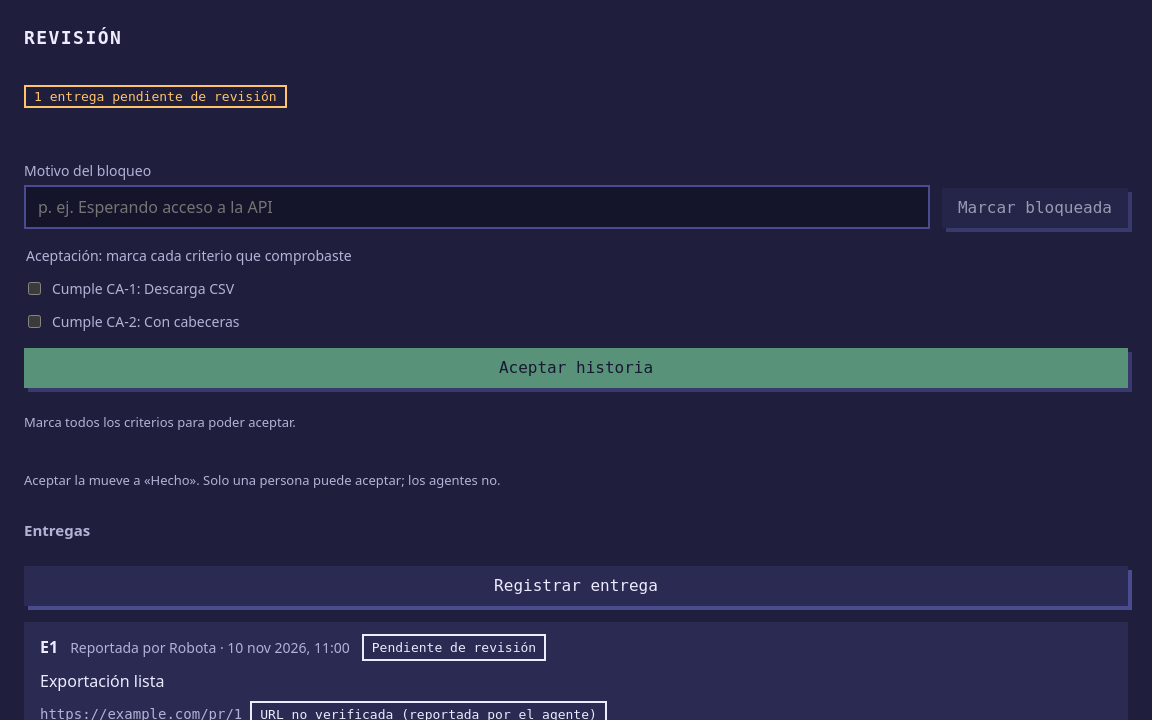
Test: ReviewPanel › registra una entrega con referencias y la envía a revisión
Click the button "Registrar entrega".
click(576, 586)  # box [24,566,1128,606]
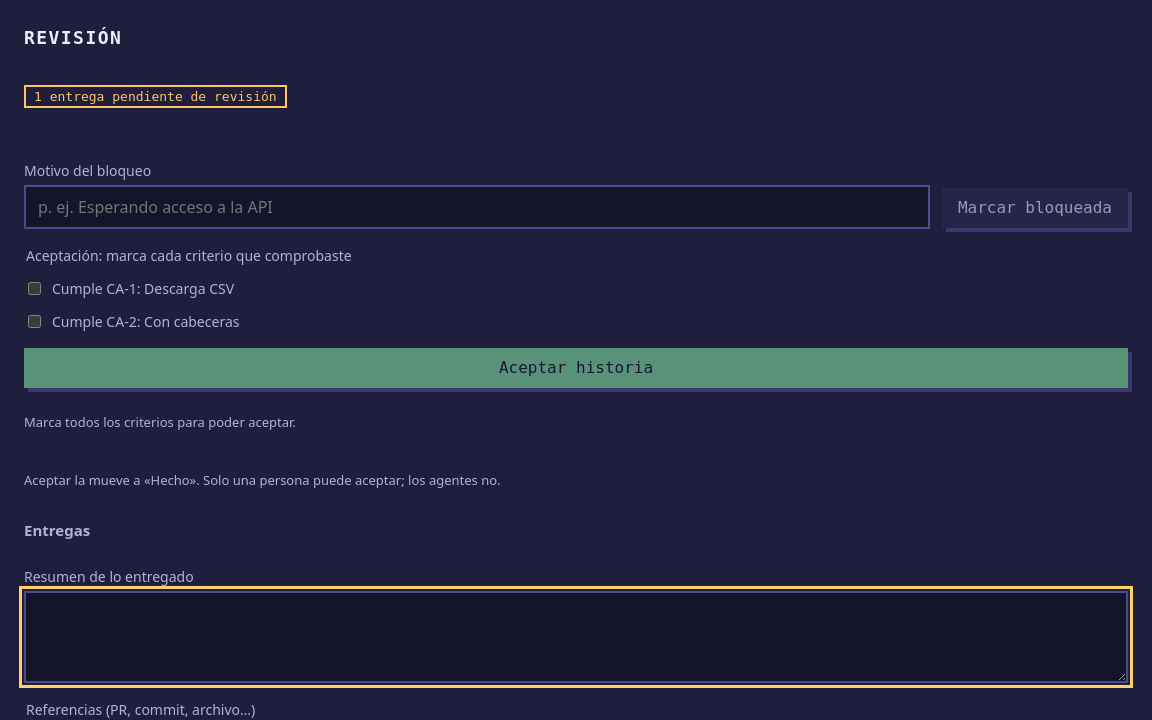
Type "Segunda versión" into the text box labelled "Resumen de lo entregado".
click(576, 636); type("Segunda versión")  # box [24,590,1128,682]
(page scrolled)
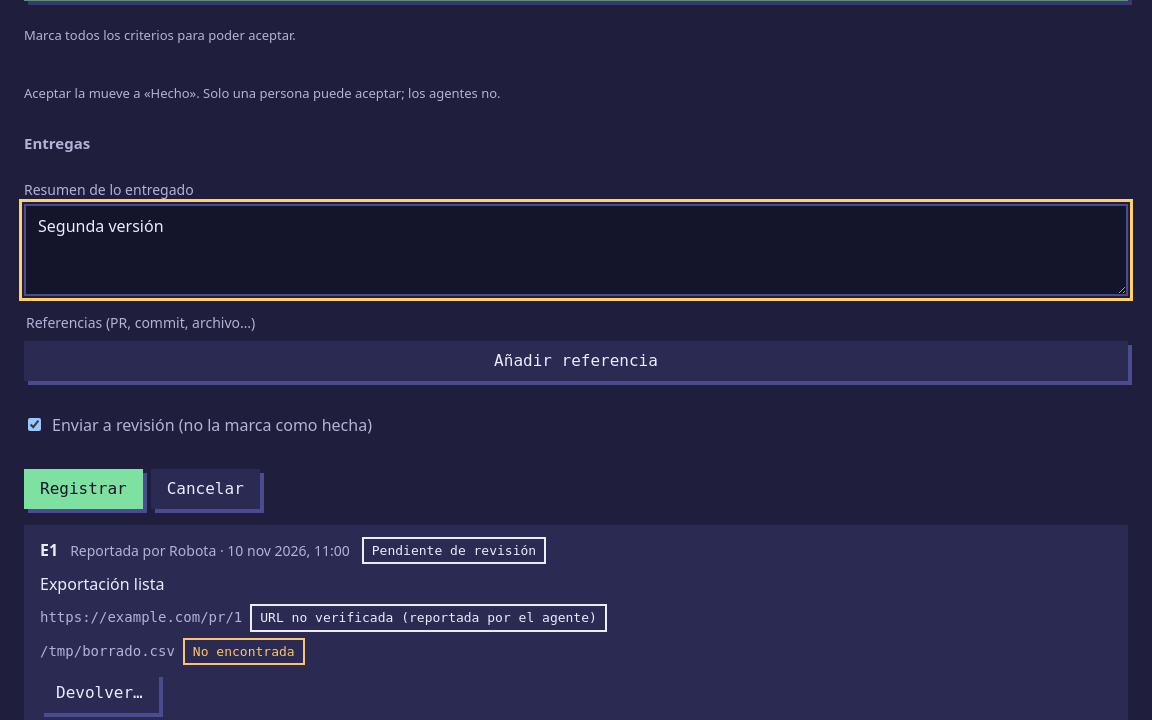
Click the button "Añadir referencia".
click(576, 360)  # box [24,340,1128,380]
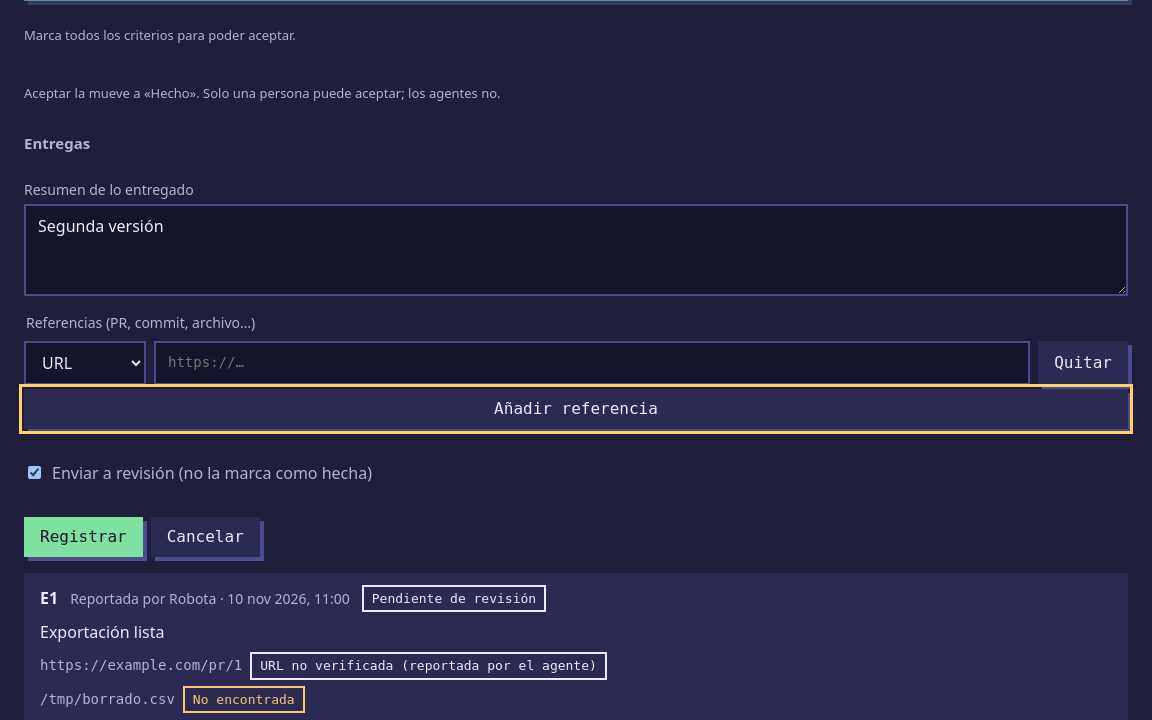
Type "https://example.com/pr/2" into the field named "Referencia 1".
click(592, 362); type("https://example.com/pr/2")  # box [154,340,1030,384]
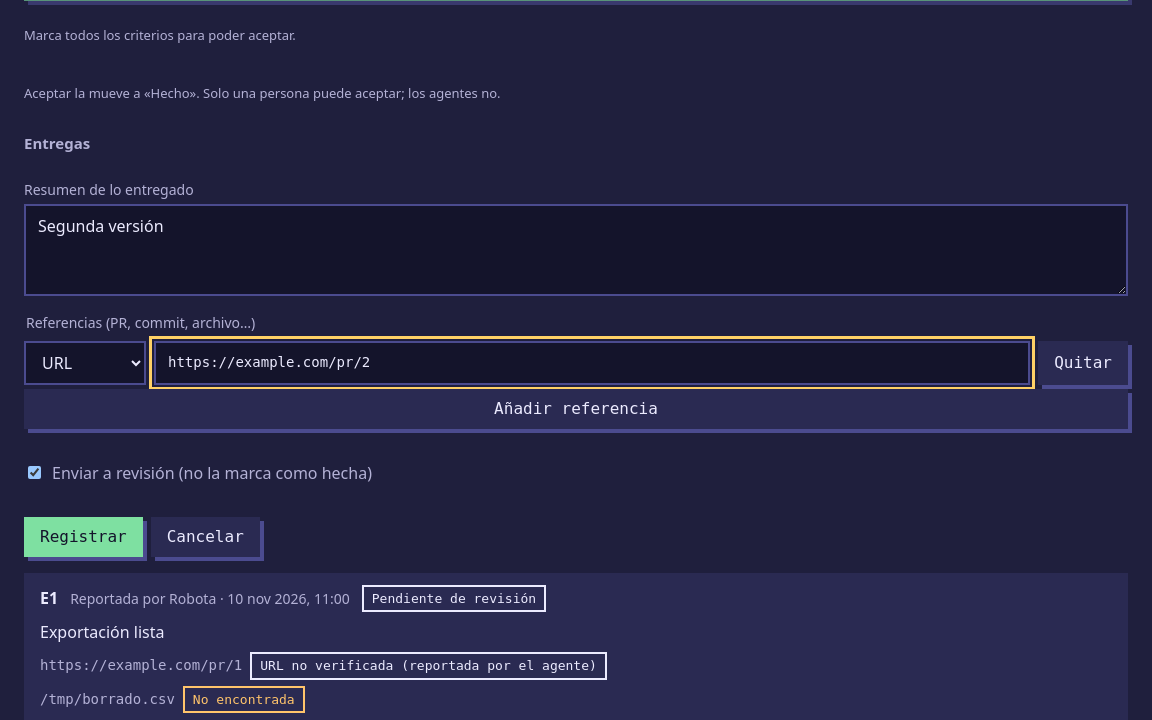
Click the button "Registrar".
click(83, 536)  # box [24,516,143,556]
(page scrolled)
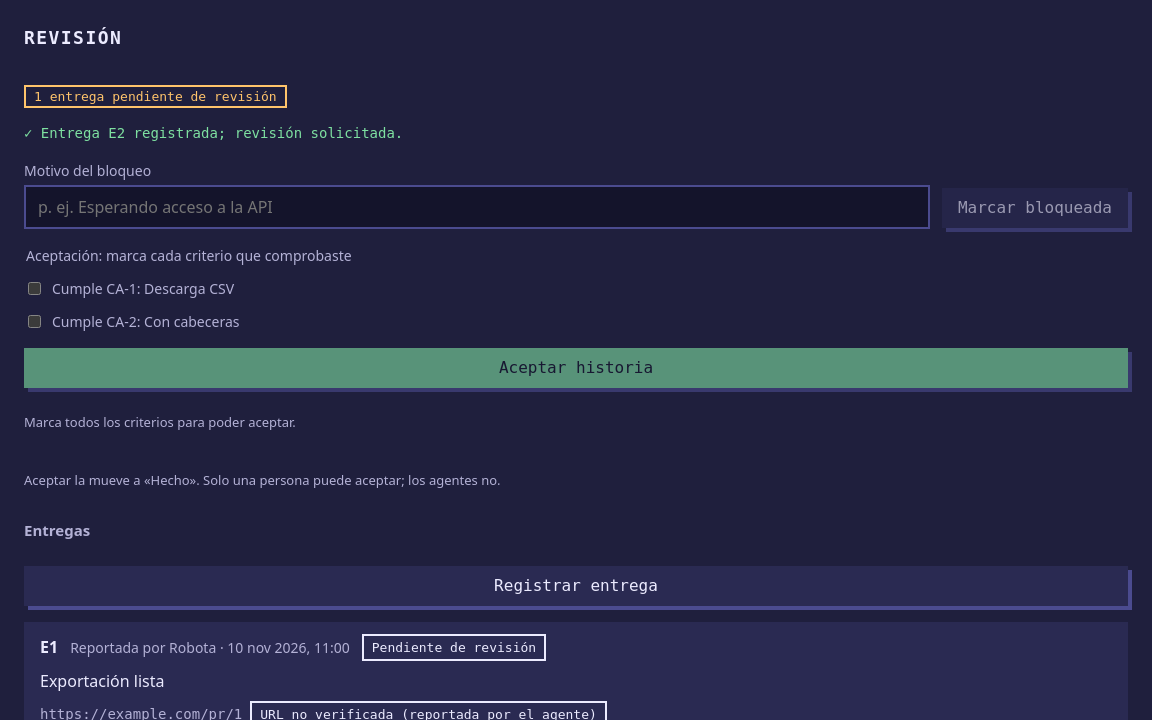
Now the text "✓ Entrega E2 registrada; revisión solicitada." is shown, box [24,125,403,141]
